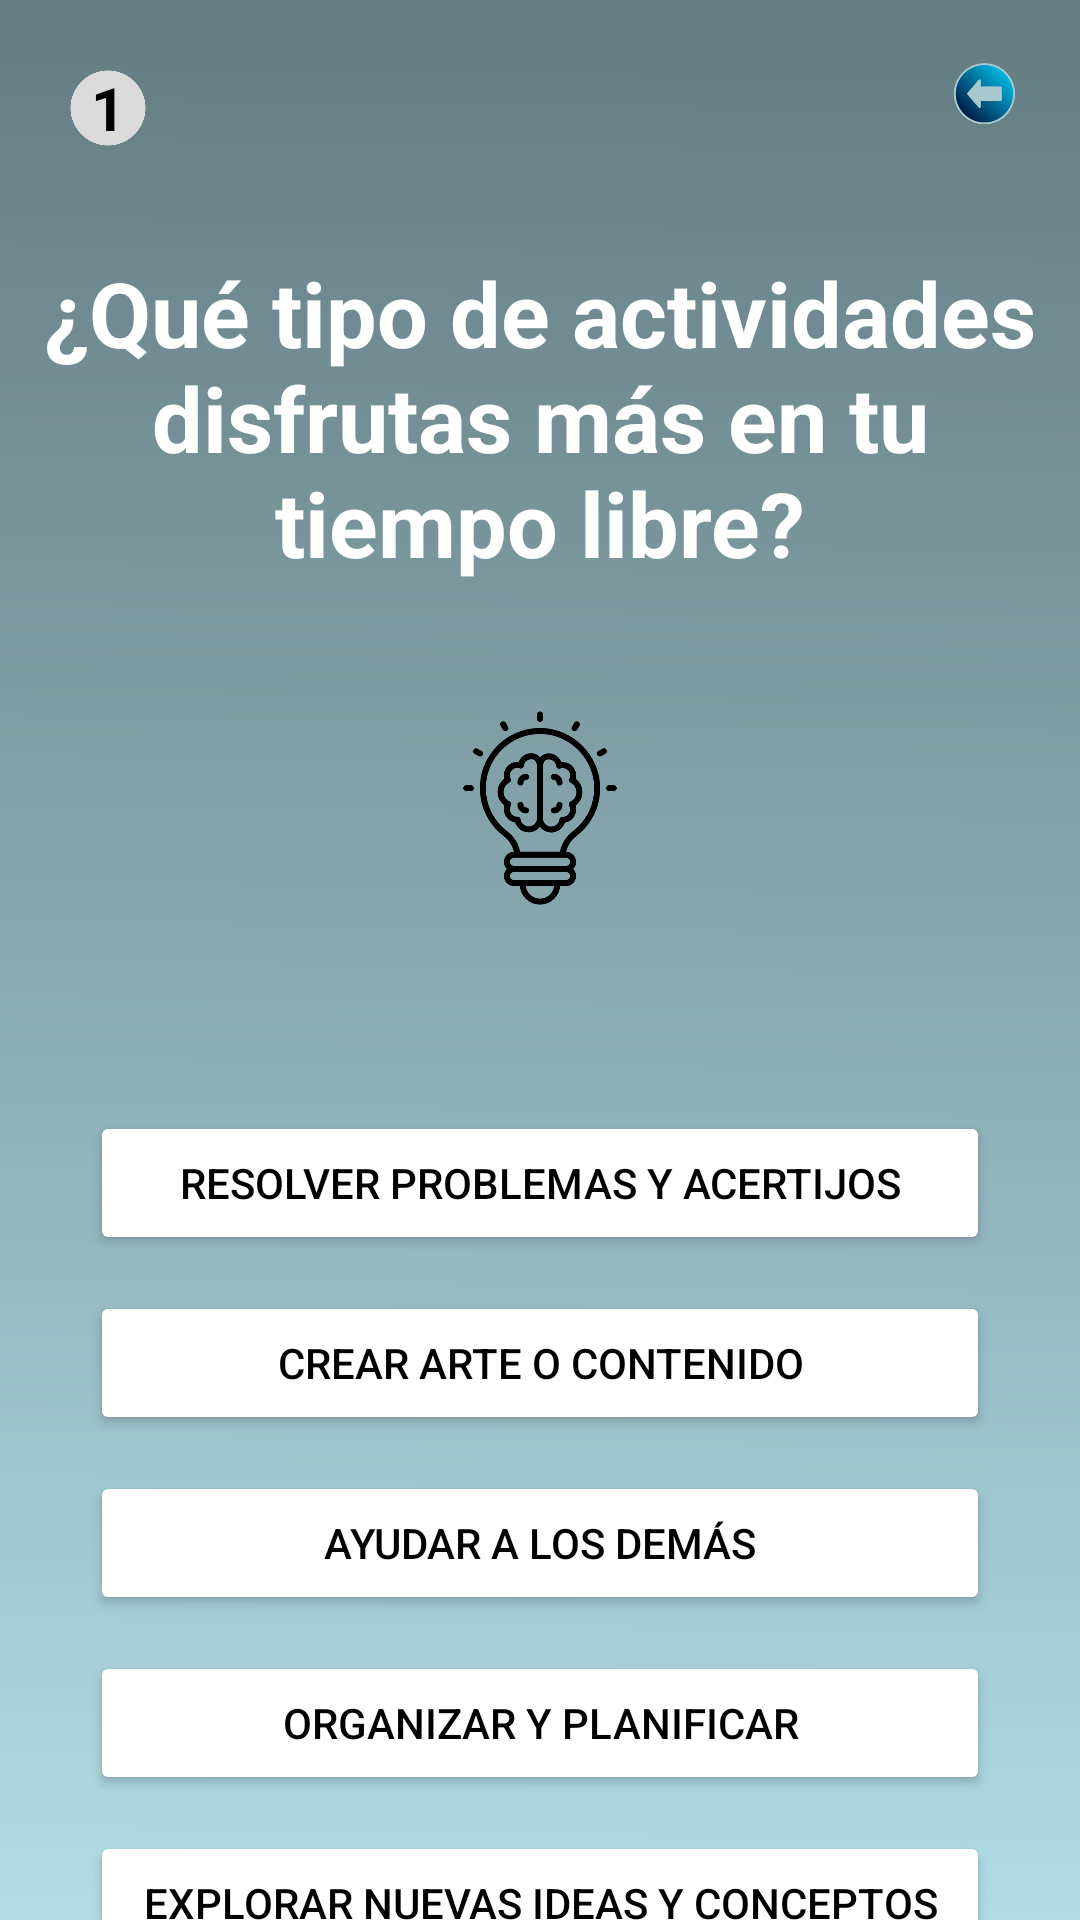

Named icons in this screenshot (1080px×1920px) and their centers, [x,y]:
idea: [540,808]
retroceso: [984,93]
